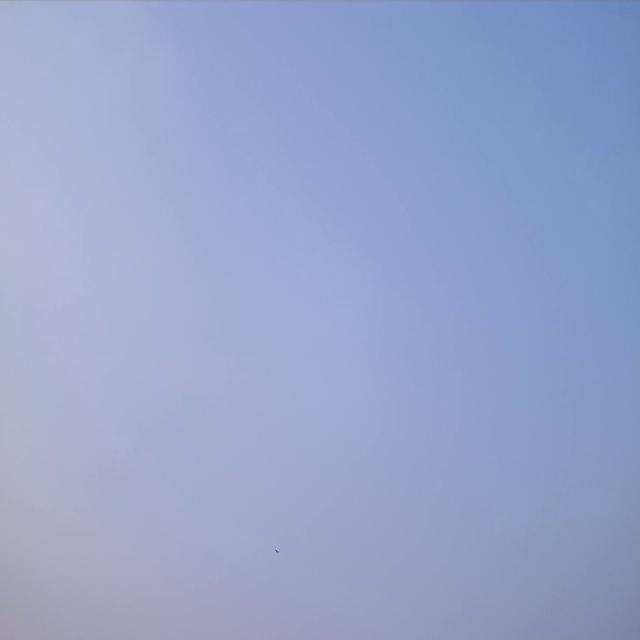UAV: (274, 548, 278, 554)
